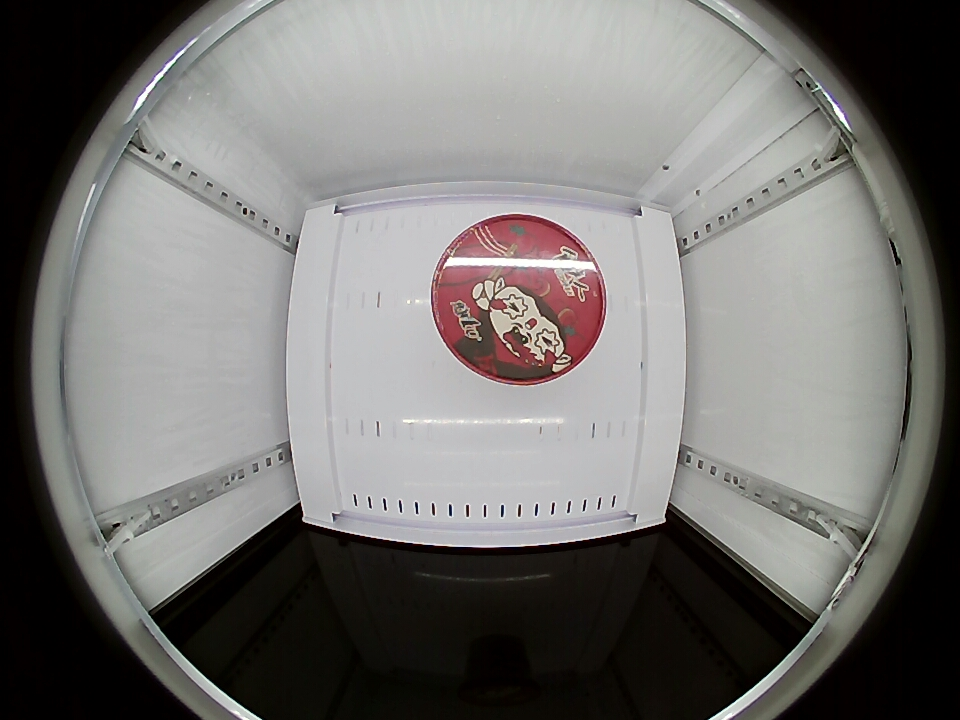suanlafen: (430, 215, 607, 385)
